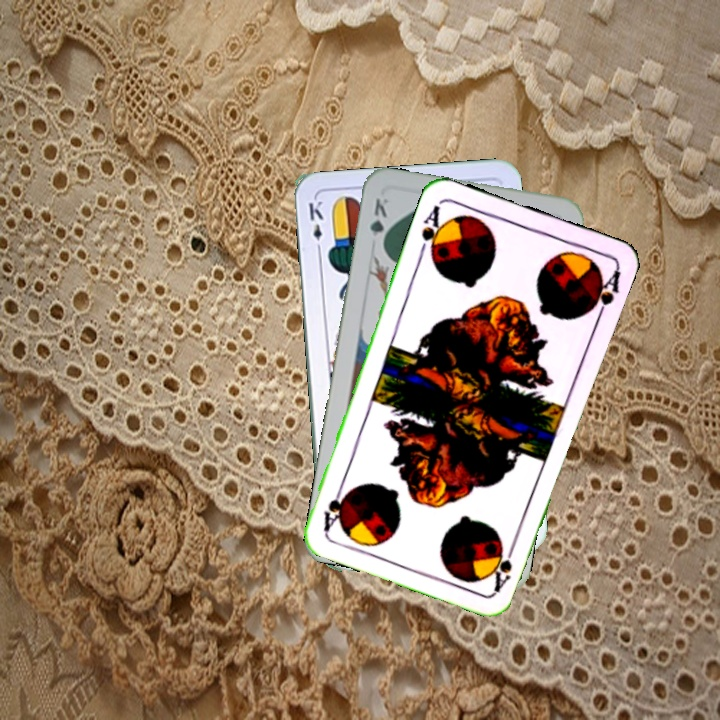EK: (304, 196, 326, 256)
GK: (365, 194, 392, 252)
SA: (415, 201, 448, 260), (487, 536, 519, 594)
